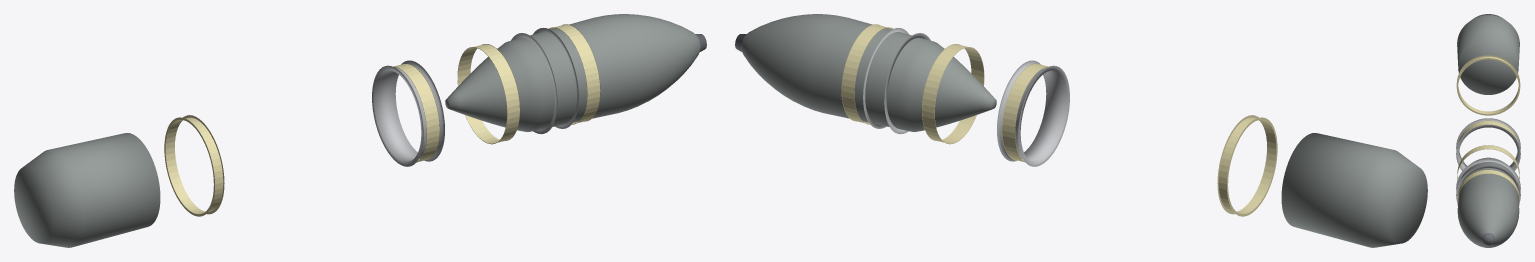
Rendered from RU_SLBM_R29R_LOD0.fbx.
3 views of the same model, side by side, from view 1: azimuth 30°, elevation 25°; view 2: azimuth 150°, elevation 25°; view 3: azimuth 270°, elevation 25° (orthographic). The views are drawn at different scales.
Visible parts, largest first — view 1: WPN_RU_SLBM_R29R_LOD0_Body, WPN_RU_SLBM_R29R_LOD0_Tail, WPN_RU_SLBM_R29R_LOD0_Marking, WPN_RU_SLBM_R29R_LOD0_Detail; view 2: WPN_RU_SLBM_R29R_LOD0_Body, WPN_RU_SLBM_R29R_LOD0_Tail, WPN_RU_SLBM_R29R_LOD0_Marking, WPN_RU_SLBM_R29R_LOD0_Detail; view 3: WPN_RU_SLBM_R29R_LOD0_Tail, WPN_RU_SLBM_R29R_LOD0_Body, WPN_RU_SLBM_R29R_LOD0_Marking, WPN_RU_SLBM_R29R_LOD0_Detail, WPN_RU_SLBM_R29R_LOD0_Nose.
Part boxes in pixels (bbox=[...]): WPN_RU_SLBM_R29R_LOD0_Body: bbox=[445, 14, 700, 131]; WPN_RU_SLBM_R29R_LOD0_Tail: bbox=[14, 133, 160, 247]; WPN_RU_SLBM_R29R_LOD0_Marking: bbox=[164, 24, 600, 216]; WPN_RU_SLBM_R29R_LOD0_Detail: bbox=[372, 28, 578, 166]; WPN_RU_SLBM_R29R_LOD0_Body: bbox=[741, 14, 996, 131]; WPN_RU_SLBM_R29R_LOD0_Tail: bbox=[1281, 133, 1427, 247]; WPN_RU_SLBM_R29R_LOD0_Marking: bbox=[841, 24, 1277, 216]; WPN_RU_SLBM_R29R_LOD0_Detail: bbox=[863, 28, 1069, 166]; WPN_RU_SLBM_R29R_LOD0_Tail: bbox=[1457, 14, 1519, 94]; WPN_RU_SLBM_R29R_LOD0_Body: bbox=[1457, 157, 1519, 247]; WPN_RU_SLBM_R29R_LOD0_Marking: bbox=[1456, 55, 1520, 206]; WPN_RU_SLBM_R29R_LOD0_Detail: bbox=[1456, 118, 1520, 202]; WPN_RU_SLBM_R29R_LOD0_Nose: bbox=[1482, 233, 1494, 245].
Size of the model in its own units: 14.1 by 1.89 by 1.89.
